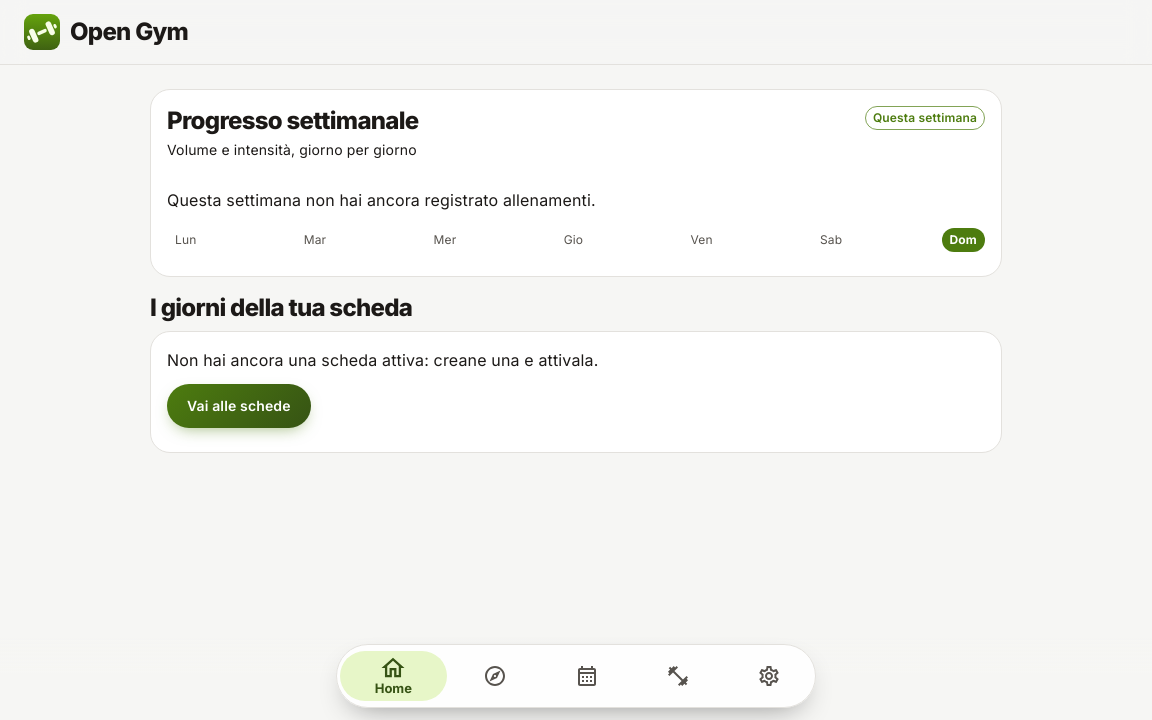
Scenario: scelta della lingua (issue #63) › gli errori di dominio parlano la lingua scelta, non quella del codice
Click the button named "Impostazioni" at (769, 676), box top-left (727, 651), bottom-right (812, 701)
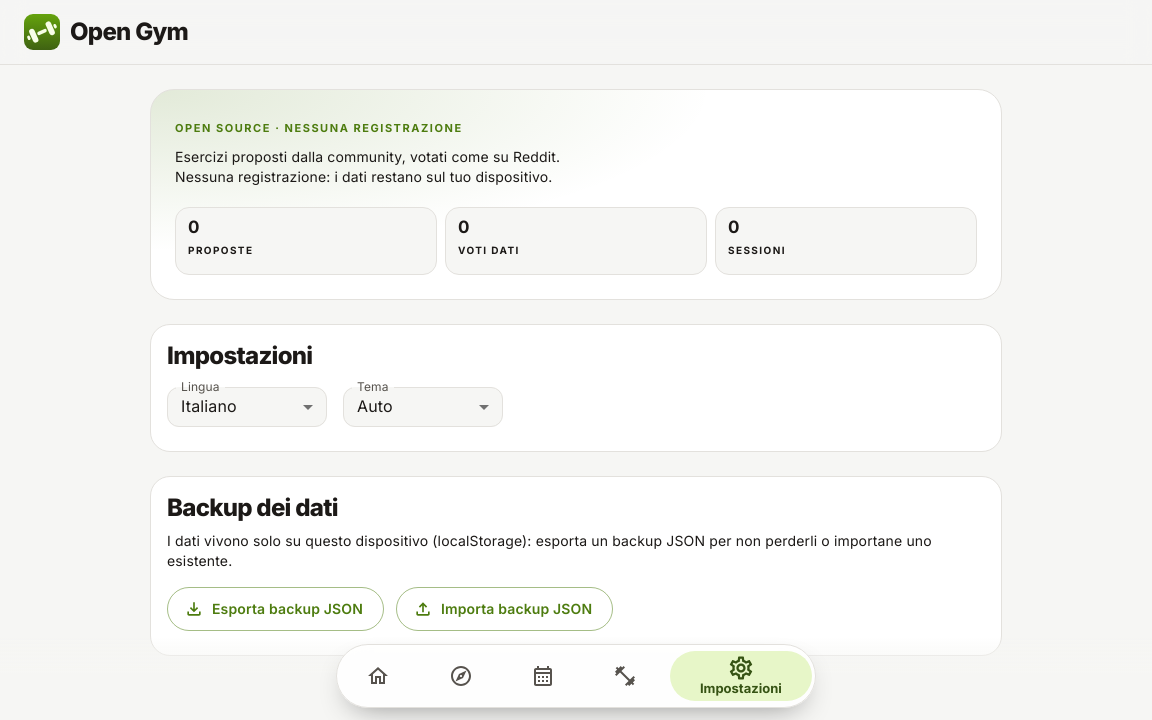
Click the dropdown named "Lingua" at (209, 406), box top-left (181, 396), bottom-right (237, 416)
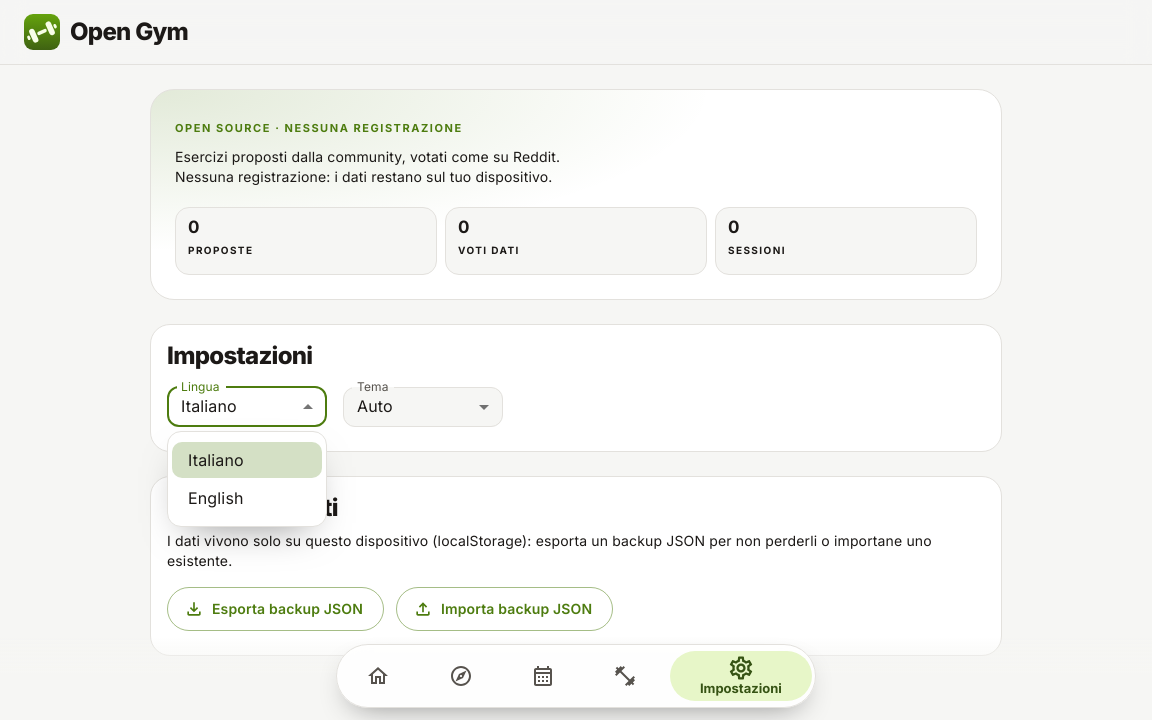
Click the option "English" at (216, 498), box top-left (188, 488), bottom-right (244, 508)
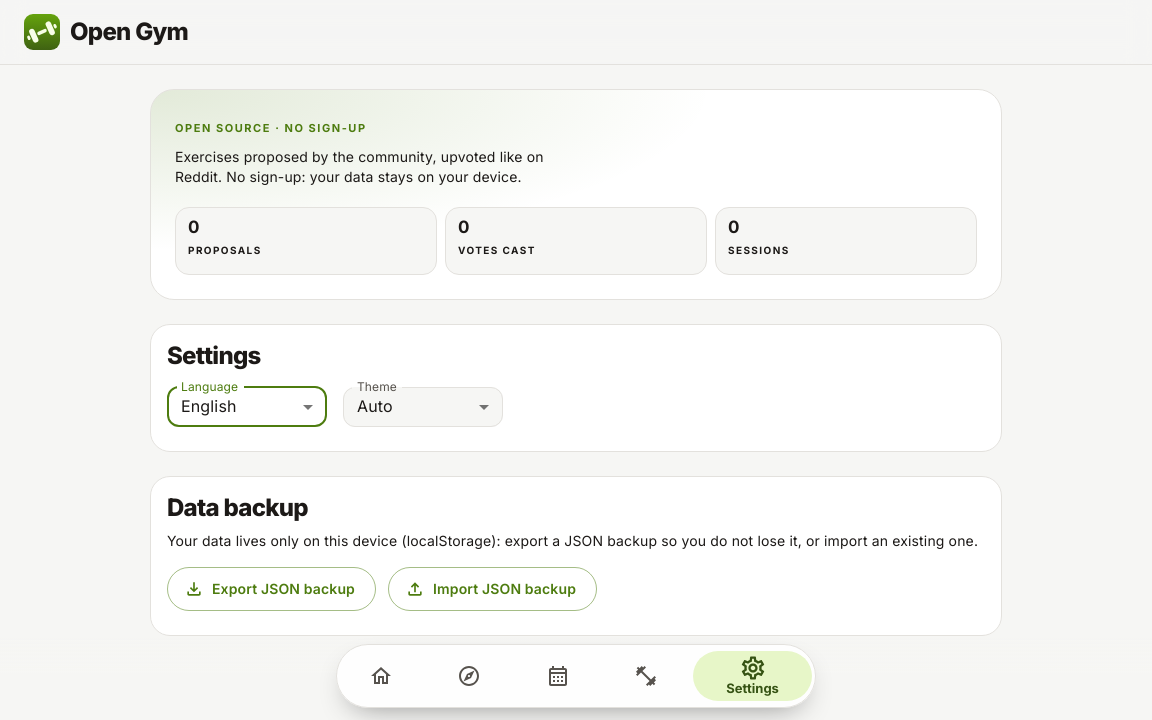
Click the button named "Community" at (469, 676), box top-left (428, 651), bottom-right (511, 701)
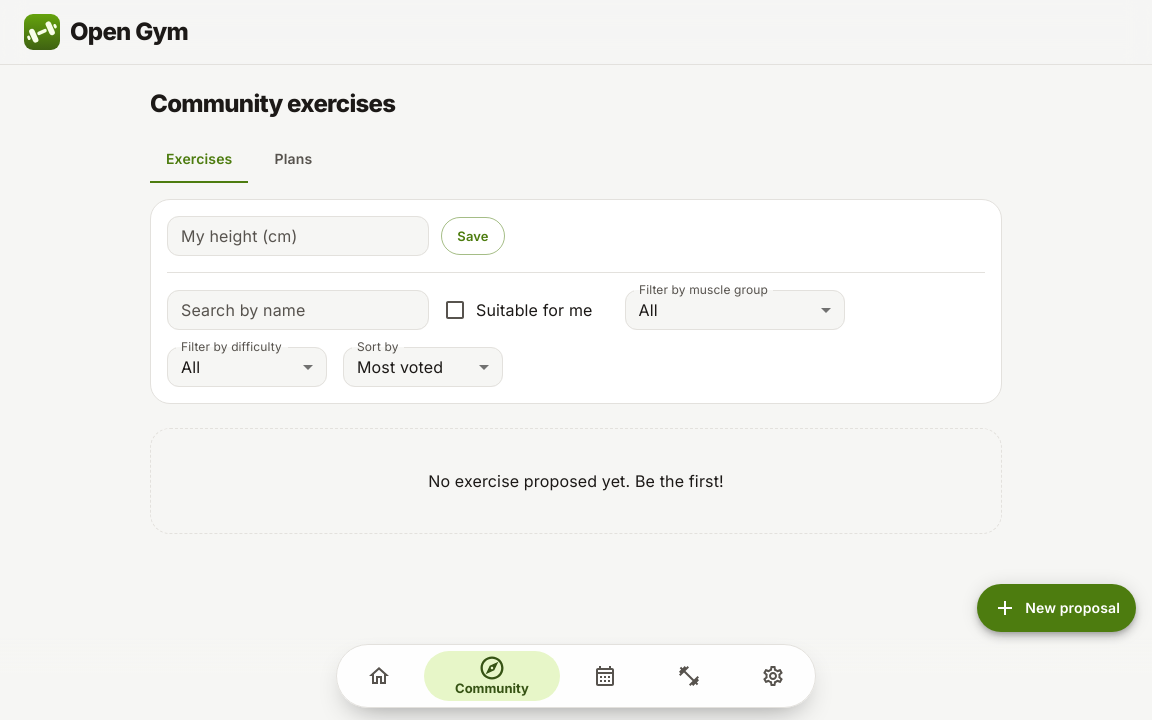
Click the button "New proposal" at (1057, 608), box top-left (977, 584), bottom-right (1136, 632)
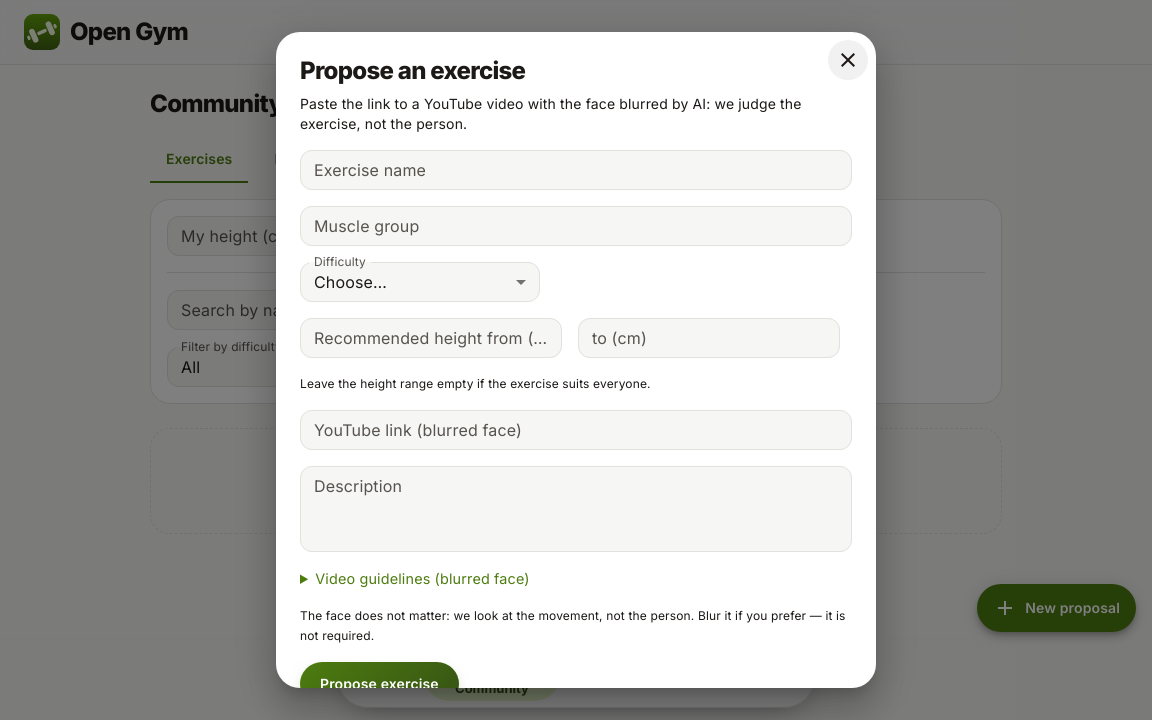
Click the button "Propose exercise" at (379, 684), box top-left (300, 662), bottom-right (459, 706)
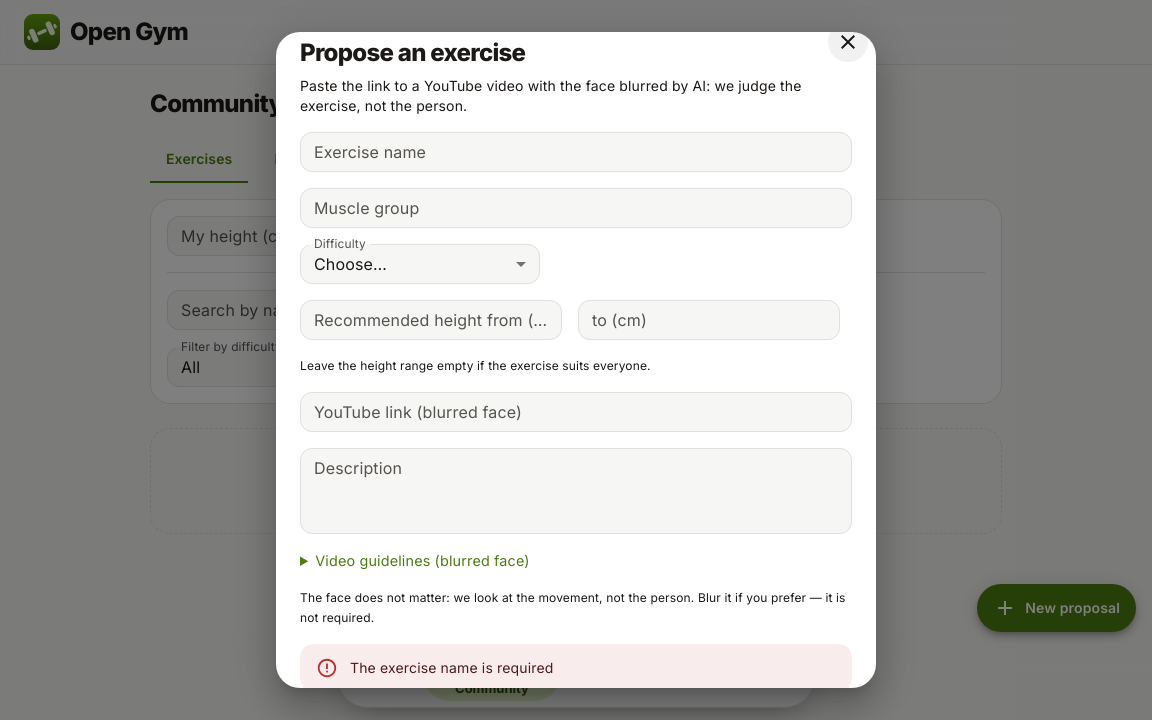
Expected: the message reads "The exercise name is required", top-left (350, 659), bottom-right (554, 676)
